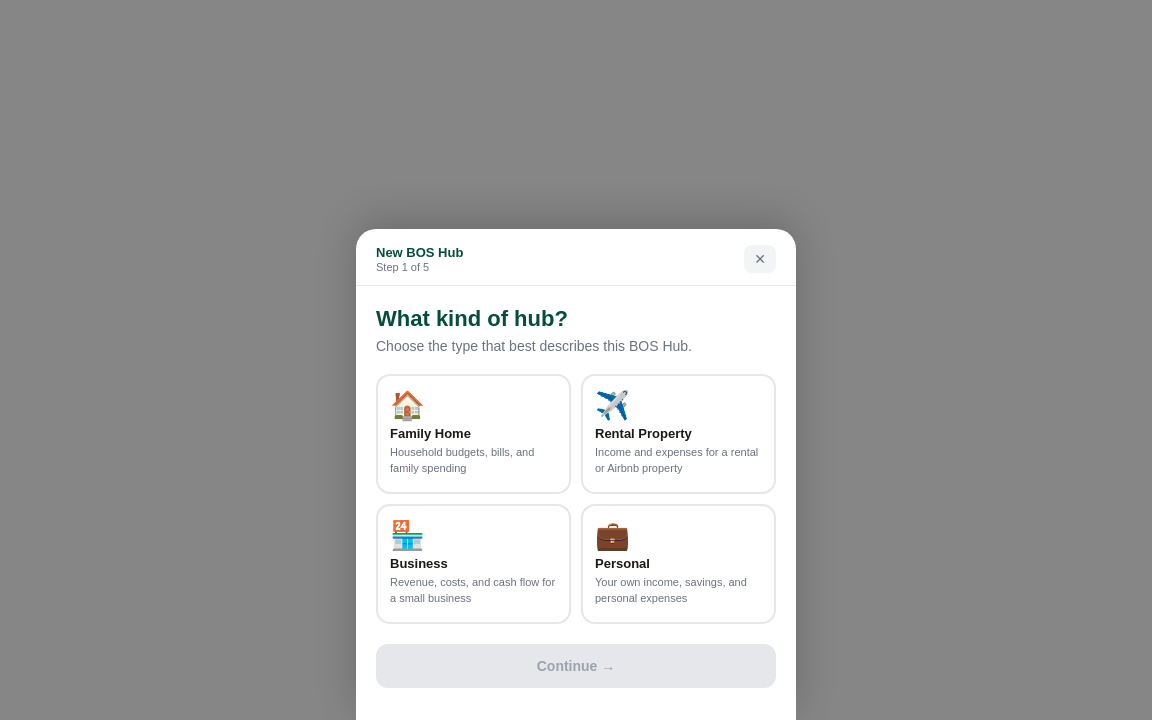
CreateHubSheet › advances to name step after selecting hub type and clicking Continue
Click the button with aria-label "Select Family Home" at point(474, 434), box [376,374,571,494]
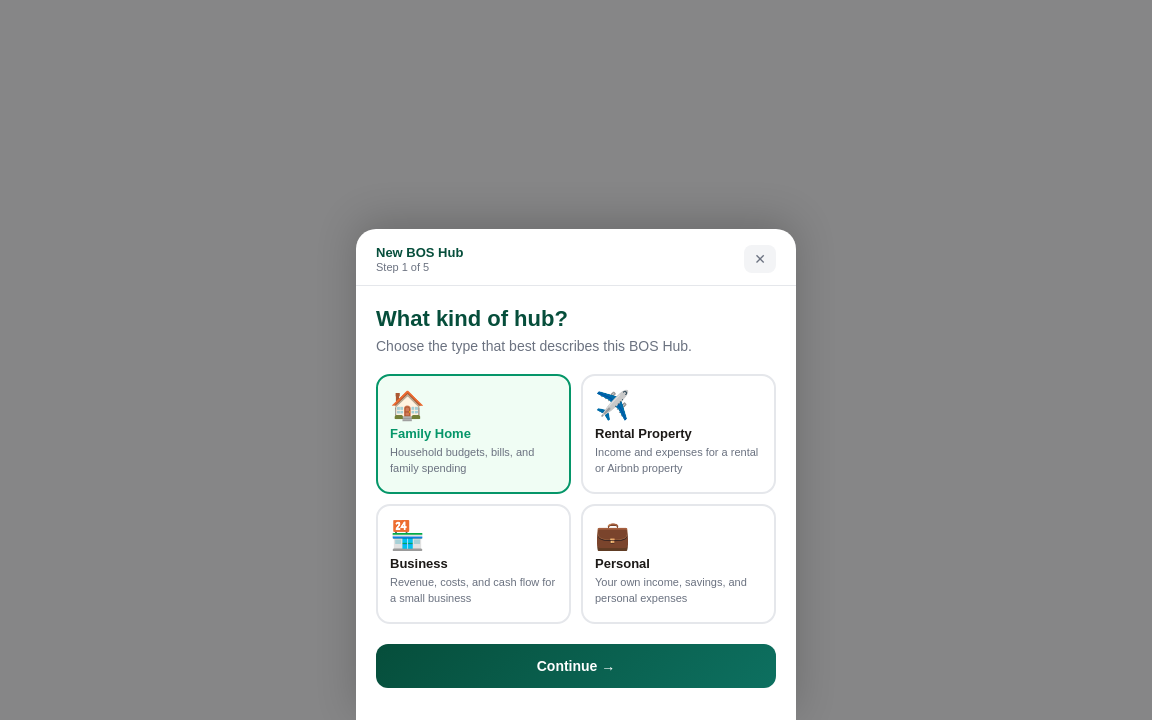
Click the button "Continue →" at point(576, 666), box [376,644,776,688]
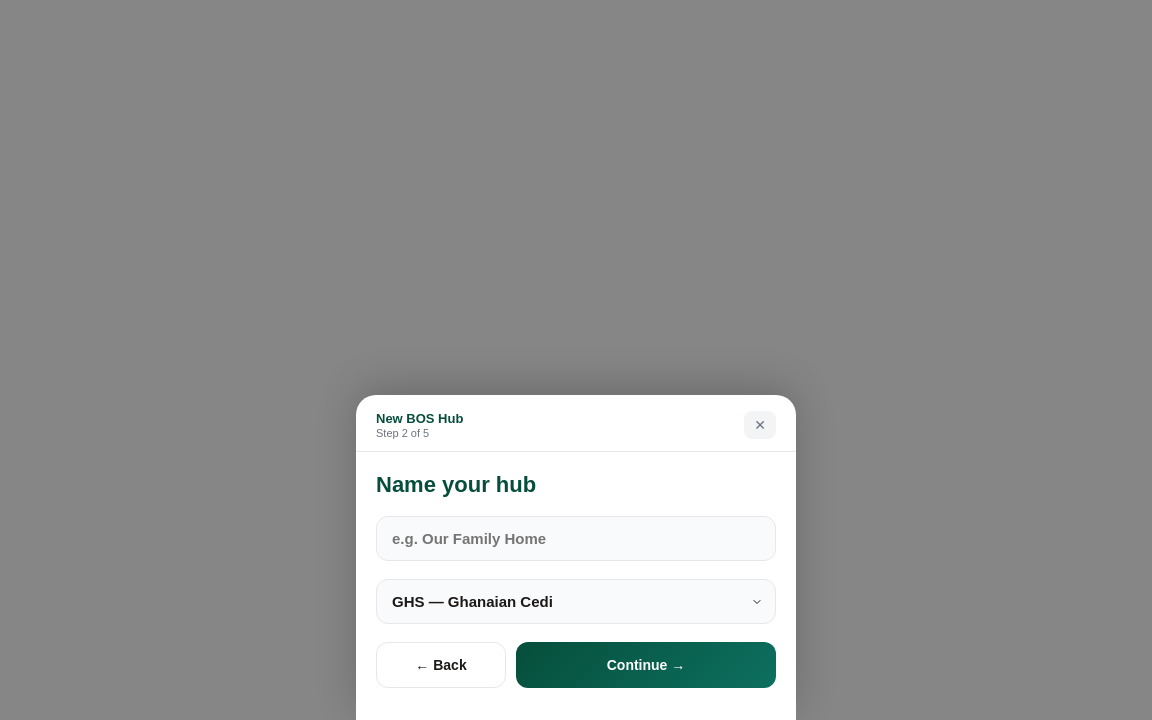
Expected: the text "Name your hub" is shown, [376,472,536,497]
